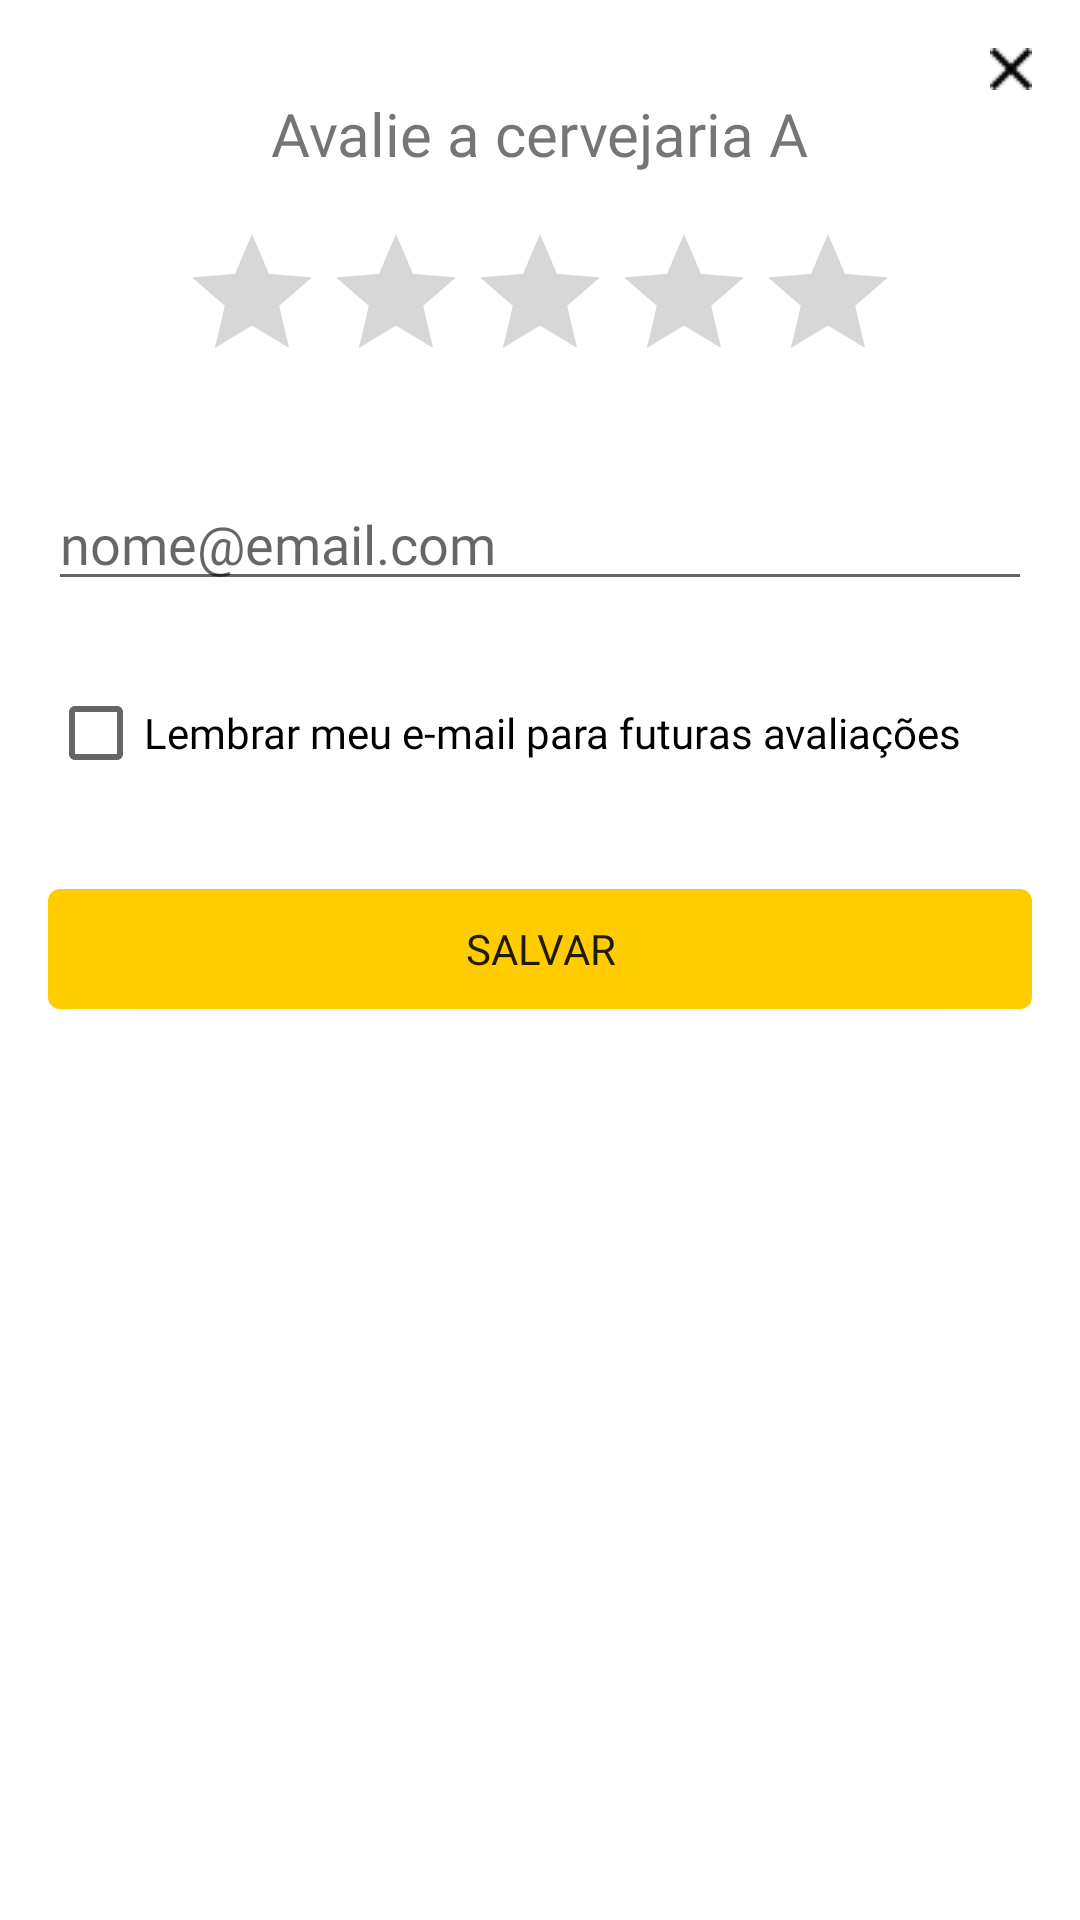

Screen size 1080px x 1920px. Icon name, then its center in pixels as (x,y):
exite: (1011,69)
